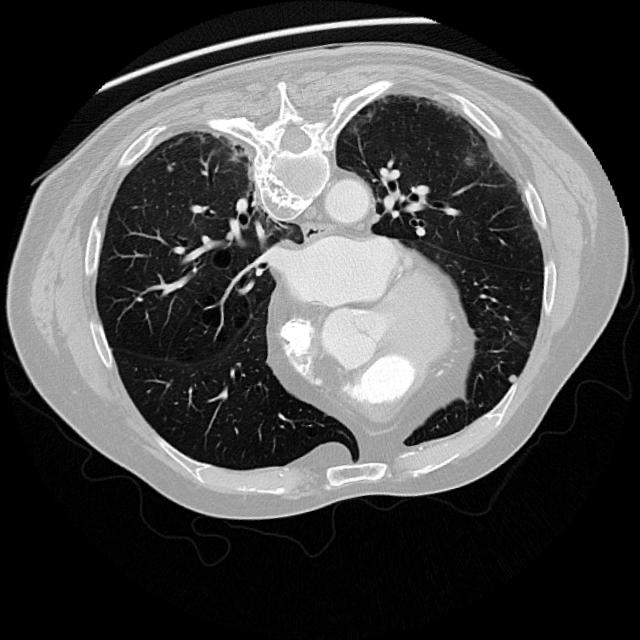nodule: (498, 367, 524, 392)
